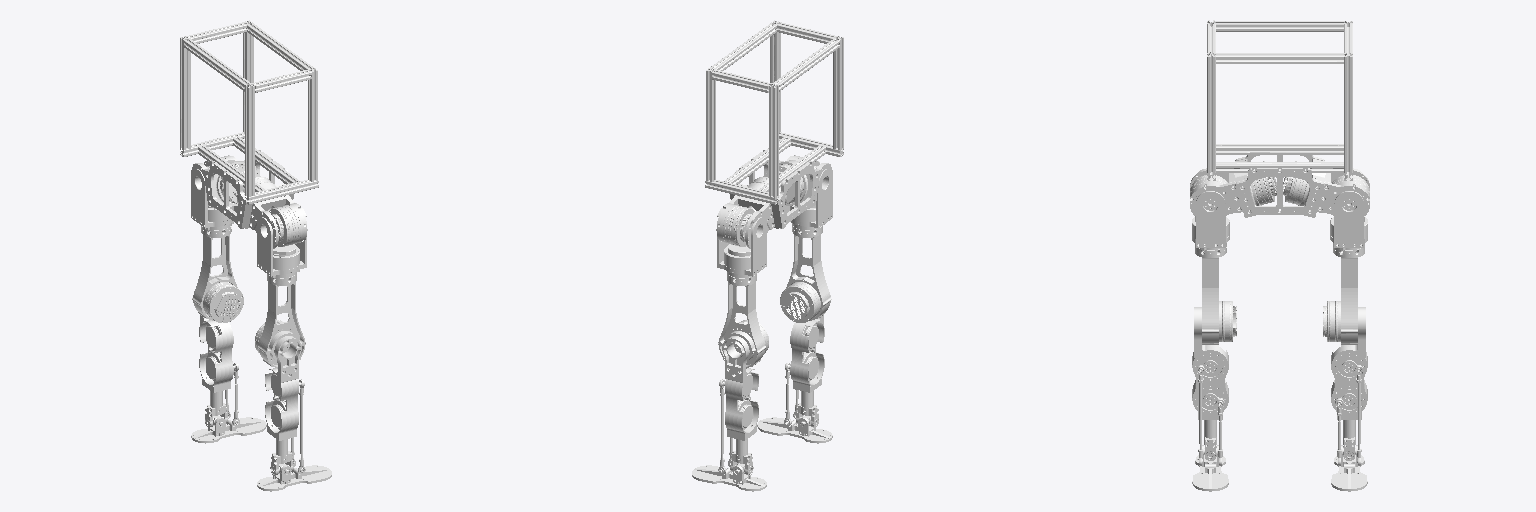
The robot description file, URDF, robot "converted_robot":
<?xml version="1.0" ?>
<robot name="converted_robot">
   <!--generated with mjcf_urdf_simple_converter (https://github.com/Yasu31/mjcf_urdf_simple_converter)-->
   <link name="world">
      <inertial>
         <origin xyz="0.0 0.0 0.0" rpy="0.0 0.0 0.0"/>
         <mass value="0.0"/>
         <inertia ixx="0.0" iyy="0.0" izz="0.0" ixy="0" ixz="0" iyz="0"/>
      </inertial>
   </link>
   <link name="Link0_Torso">
      <inertial>
         <origin xyz="2.2e-05 1.1e-05 -0.009359" rpy="0.00021902543341050415 -0.00012103084724457425 -0.0002364018197239283"/>
         <mass value="5.721"/>
         <inertia ixx="0.1338000028239822" iyy="0.10190000009342207" izz="0.0627799970825957" ixy="0" ixz="0" iyz="0"/>
      </inertial>
      <visual name="Link0_Torso">
         <origin xyz="7.796033047809406e-05 0.00031803690230297664 0.09691701717154415" rpy="-0.0006628095944997284 -0.0008575215963730898 0.0019874856713600632"/>
         <geometry>
            <mesh filename="converted_Link0_Torso.stl"/>
         </geometry>
         <material name="white"/>
      </visual>
   </link>
   <link name="root_jointbody">
      <inertial>
         <origin xyz="0.0 0.0 0.0" rpy="0.0 0.0 0.0"/>
         <mass value="0.001"/>
         <inertia ixx="1e-09" iyy="1e-09" izz="1e-09" ixy="0" ixz="0" iyz="0"/>
      </inertial>
   </link>
   <joint type="fixed" name="root">
      <parent link="world"/>
      <child link="root_jointbody"/>
      <origin xyz="0.0 0.0 0.81" rpy="0.0 0.0 0.0"/>
   </joint>
   <joint type="fixed" name="root_offset">
      <parent link="root_jointbody"/>
      <child link="Link0_Torso"/>
      <origin xyz="-0.0 -0.0 -0.0" rpy="0.0 0.0 0.0"/>
   </joint>
   <link name="Left_Link1_Hip">
      <inertial>
         <origin xyz="0.000579 0.015782 0.005535" rpy="1.4261314647441212 -0.03472477046694178 0.0034909887255693455"/>
         <mass value="1.764"/>
         <inertia ixx="0.003489185277947034" iyy="0.003339121340681708" izz="0.0022646933813712596" ixy="0" ixz="0" iyz="0"/>
      </inertial>
      <visual name="Left_Link1_Hip">
         <origin xyz="0.0006133032551700439 0.018110730934030116 0.0015904874731264653" rpy="1.4938769065050608 -0.0060949738828459665 0.008508879105160386"/>
         <geometry>
            <mesh filename="converted_Left_Link1_Hip.stl"/>
         </geometry>
         <material name="white"/>
      </visual>
   </link>
   <link name="Left_Hip_Pitch_jointbody">
      <inertial>
         <origin xyz="0.0 0.0 0.0" rpy="0.0 0.0 0.0"/>
         <mass value="0.001"/>
         <inertia ixx="1e-09" iyy="1e-09" izz="1e-09" ixy="0" ixz="0" iyz="0"/>
      </inertial>
   </link>
   <joint type="revolute" name="Left_Hip_Pitch">
      <parent link="Link0_Torso"/>
      <child link="Left_Hip_Pitch_jointbody"/>
      <origin xyz="0.0 0.162205 -0.100849" rpy="1.5707963267948963 -1.3089969389957472 1.5707963267948966"/>
      <axis xyz="0.0 -1.0 0.0"/>
      <limit lower="-1.5707963267948966" upper="1.5707963267948966" effort="100" velocity="100"/>
   </joint>
   <joint type="fixed" name="Left_Hip_Pitch_offset">
      <parent link="Left_Hip_Pitch_jointbody"/>
      <child link="Left_Link1_Hip"/>
      <origin xyz="-0.0 -0.0 -0.0" rpy="0.0 0.0 0.0"/>
   </joint>
   <link name="Left_Link2_Hip">
      <inertial>
         <origin xyz="1.6e-05 -0.000136 -0.073241" rpy="-0.002403493327179355 -0.0029137032599200197 -0.00119358948607688"/>
         <mass value="1.2918"/>
         <inertia ixx="0.003152011122252739" iyy="0.0023590010950211766" izz="0.0019749877827260846" ixy="0" ixz="0" iyz="0"/>
      </inertial>
      <visual name="Left_Link2_Hip">
         <origin xyz="5.955319185972279e-06 0.0001264025748451421 -0.06880982279097933" rpy="-0.014720816150545199 -0.0008544309075260159 -0.00047388657787451085"/>
         <geometry>
            <mesh filename="converted_Left_Link2_Hip.stl"/>
         </geometry>
         <material name="white"/>
      </visual>
   </link>
   <link name="Left_Hip_Roll_jointbody">
      <inertial>
         <origin xyz="0.0 0.0 0.0" rpy="0.0 0.0 0.0"/>
         <mass value="0.001"/>
         <inertia ixx="1e-09" iyy="1e-09" izz="1e-09" ixy="0" ixz="0" iyz="0"/>
      </inertial>
   </link>
   <joint type="revolute" name="Left_Hip_Roll">
      <parent link="Left_Link1_Hip"/>
      <child link="Left_Hip_Roll_jointbody"/>
      <origin xyz="0.0 0.0 0.0" rpy="1.5707963267948966 2.220446049250313e-16 1.8325957145940461"/>
      <axis xyz="0.0 1.0 0.0"/>
      <limit lower="-0.7853981633974483" upper="1.0471975511965976" effort="100" velocity="100"/>
   </joint>
   <joint type="fixed" name="Left_Hip_Roll_offset">
      <parent link="Left_Hip_Roll_jointbody"/>
      <child link="Left_Link2_Hip"/>
      <origin xyz="-0.0 -0.0 -0.0" rpy="0.0 0.0 0.0"/>
   </joint>
   <link name="Left_Link3_Thigh">
      <inertial>
         <origin xyz="2.8e-05 -0.032607 -0.012468" rpy="0.057429536107923104 -1.4875579325523163 1.5130622651719077"/>
         <mass value="1.983"/>
         <inertia ixx="0.01165590384365968" iyy="0.011159988686235205" izz="0.002092107470105102" ixy="0" ixz="0" iyz="0"/>
      </inertial>
      <visual name="Left_Link3_Thigh">
         <origin xyz="0.00011504139449444193 -0.06256706953434127 -0.008451097351318748" rpy="0.8405142510473955 -1.4642809869910671 0.7266355600804123"/>
         <geometry>
            <mesh filename="converted_Left_Link3_Thigh.stl"/>
         </geometry>
         <material name="white"/>
      </visual>
   </link>
   <link name="Left_Hip_Yaw_jointbody">
      <inertial>
         <origin xyz="0.0 0.0 0.0" rpy="0.0 0.0 0.0"/>
         <mass value="0.001"/>
         <inertia ixx="1e-09" iyy="1e-09" izz="1e-09" ixy="0" ixz="0" iyz="0"/>
      </inertial>
   </link>
   <joint type="revolute" name="Left_Hip_Yaw">
      <parent link="Left_Link2_Hip"/>
      <child link="Left_Hip_Yaw_jointbody"/>
      <origin xyz="0.0 -4.884981308350689e-17 -0.10400000000000001" rpy="-1.5707963267948966 -2.220446049250313e-16 1.5707963267948963"/>
      <axis xyz="0.0 -1.0 0.0"/>
      <limit lower="-0.7853981633974483" upper="0.7853981633974483" effort="100" velocity="100"/>
   </joint>
   <joint type="fixed" name="Left_Hip_Yaw_offset">
      <parent link="Left_Hip_Yaw_jointbody"/>
      <child link="Left_Link3_Thigh"/>
      <origin xyz="-0.0 0.22 -0.0" rpy="0.0 0.0 0.0"/>
   </joint>
   <link name="Left_Link4_Shank">
      <inertial>
         <origin xyz="-0.171211 0.003585 0.0097" rpy="-1.0705570861481415 -1.4562930585628588 -2.1267846954801883"/>
         <mass value="1.894"/>
         <inertia ixx="0.01685817394008441" iyy="0.016680379818234354" izz="0.001411446241681241" ixy="0" ixz="0" iyz="0"/>
      </inertial>
      <visual name="Left_Link4_Shank">
         <origin xyz="-0.1785457898084454 0.005403067554264071 0.006027392480964117" rpy="1.1471767158393897 -1.5029891437086682 1.9251359660266654"/>
         <geometry>
            <mesh filename="converted_Left_Link4_Shank.stl"/>
         </geometry>
         <material name="white"/>
      </visual>
   </link>
   <link name="Left_Knee_jointbody">
      <inertial>
         <origin xyz="0.0 0.0 0.0" rpy="0.0 0.0 0.0"/>
         <mass value="0.001"/>
         <inertia ixx="1e-09" iyy="1e-09" izz="1e-09" ixy="0" ixz="0" iyz="0"/>
      </inertial>
   </link>
   <joint type="revolute" name="Left_Knee">
      <parent link="Left_Link3_Thigh"/>
      <child link="Left_Knee_jointbody"/>
      <origin xyz="-7.438494264988549e-17 0.0 7.438494264988549e-17" rpy="1.5707963267948966 2.220446049250313e-16 1.5707963267948963"/>
      <axis xyz="0.0 1.0 0.0"/>
      <limit lower="-0.17453292519943295" upper="2.0943951023931953" effort="100" velocity="100"/>
   </joint>
   <joint type="fixed" name="Left_Knee_offset">
      <parent link="Left_Knee_jointbody"/>
      <child link="Left_Link4_Shank"/>
      <origin xyz="0.335 -0.0 -0.0" rpy="0.0 0.0 0.0"/>
   </joint>
   <link name="Left_Link5_AnkleRoll">
      <inertial>
         <origin xyz="0.0 0.0 0.0" rpy="1.5707963267948963 0.0 0.0"/>
         <mass value="0.040313"/>
         <inertia ixx="7.009e-06" iyy="5.125014e-06" izz="3.498104e-06" ixy="0" ixz="0" iyz="0"/>
      </inertial>
      <visual name="Left_Link5_AnkleRoll">
         <origin xyz="4.388303111581008e-08 -1.6757276121718816e-07 3.831685435758278e-08" rpy="1.5707963267948966 0.0 0.0"/>
         <geometry>
            <mesh filename="converted_Left_Link5_AnkleRoll.stl"/>
         </geometry>
         <material name="white"/>
      </visual>
   </link>
   <link name="Left_Ankle_Roll_jointbody">
      <inertial>
         <origin xyz="0.0 0.0 0.0" rpy="0.0 0.0 0.0"/>
         <mass value="0.001"/>
         <inertia ixx="1e-09" iyy="1e-09" izz="1e-09" ixy="0" ixz="0" iyz="0"/>
      </inertial>
   </link>
   <joint type="revolute" name="Left_Ankle_Roll">
      <parent link="Left_Link4_Shank"/>
      <child link="Left_Ankle_Roll_jointbody"/>
      <origin xyz="0.0 0.0 0.0" rpy="0.0 0.0 0.0"/>
      <axis xyz="0.0 0.0 1.0"/>
      <limit lower="-1.3962634015954636" upper="1.3962634015954636" effort="100" velocity="100"/>
   </joint>
   <joint type="fixed" name="Left_Ankle_Roll_offset">
      <parent link="Left_Ankle_Roll_jointbody"/>
      <child link="Left_Link5_AnkleRoll"/>
      <origin xyz="-0.0 -0.0 -0.0" rpy="0.0 0.0 0.0"/>
   </joint>
   <link name="Left_Link6_Foot">
      <inertial>
         <origin xyz="0.030483 -0.029106 0.0" rpy="1.5707790929078265 0.0005697707854976919 0.06333915865589909"/>
         <mass value="0.343229"/>
         <inertia ixx="0.0009465858675577525" iyy="0.0008769999776252296" izz="0.00015141415481701663" ixy="0" ixz="0" iyz="0"/>
      </inertial>
      <visual name="Left_Link6_Foot">
         <origin xyz="0.025220337900278663 -0.025180112624593784 1.7833502007421168e-06" rpy="1.5709706228299076 0.0013580123031362579 0.10743048297184149"/>
         <geometry>
            <mesh filename="converted_Left_Link6_Foot.stl"/>
         </geometry>
         <material name="white"/>
      </visual>
   </link>
   <link name="Left_Ankle_Pitch_jointbody">
      <inertial>
         <origin xyz="0.0 0.0 0.0" rpy="0.0 0.0 0.0"/>
         <mass value="0.001"/>
         <inertia ixx="1e-09" iyy="1e-09" izz="1e-09" ixy="0" ixz="0" iyz="0"/>
      </inertial>
   </link>
   <joint type="revolute" name="Left_Ankle_Pitch">
      <parent link="Left_Link5_AnkleRoll"/>
      <child link="Left_Ankle_Pitch_jointbody"/>
      <origin xyz="0.0 0.0 0.0" rpy="-1.5707963267948963 0.0 0.0"/>
      <axis xyz="0.0 0.0 1.0"/>
      <limit lower="-1.3962634015954636" upper="1.3962634015954636" effort="100" velocity="100"/>
   </joint>
   <joint type="fixed" name="Left_Ankle_Pitch_offset">
      <parent link="Left_Ankle_Pitch_jointbody"/>
      <child link="Left_Link6_Foot"/>
      <origin xyz="-0.0 -0.0 -0.0" rpy="0.0 0.0 0.0"/>
   </joint>
   <link name="Right_Link1_Hip">
      <inertial>
         <origin xyz="0.000581 -0.01523 0.005579" rpy="1.6912018152383221 -0.032719458877448204 -0.0018698688662284301"/>
         <mass value="1.751"/>
         <inertia ixx="0.003417173983937582" iyy="0.0032590746470919146" izz="0.0022707513689705023" ixy="0" ixz="0" iyz="0"/>
      </inertial>
      <visual name="Right_Link1_Hip">
         <origin xyz="0.0006045523947415651 -0.01809802445458151 0.0015840012384803555" rpy="1.6473859487105154 -0.005763749157890796 -0.008205143960260744"/>
         <geometry>
            <mesh filename="converted_Right_Link1_Hip.stl"/>
         </geometry>
         <material name="white"/>
      </visual>
   </link>
   <link name="Right_Hip_Pitch_jointbody">
      <inertial>
         <origin xyz="0.0 0.0 0.0" rpy="0.0 0.0 0.0"/>
         <mass value="0.001"/>
         <inertia ixx="1e-09" iyy="1e-09" izz="1e-09" ixy="0" ixz="0" iyz="0"/>
      </inertial>
   </link>
   <joint type="revolute" name="Right_Hip_Pitch">
      <parent link="Link0_Torso"/>
      <child link="Right_Hip_Pitch_jointbody"/>
      <origin xyz="0.0 -0.162205 -0.100849" rpy="-1.5707963267948966 -1.3089969389957476 -1.5707963267948968"/>
      <axis xyz="0.0 -1.0 0.0"/>
      <limit lower="-1.5707963267948966" upper="1.5707963267948966" effort="100" velocity="100"/>
   </joint>
   <joint type="fixed" name="Right_Hip_Pitch_offset">
      <parent link="Right_Hip_Pitch_jointbody"/>
      <child link="Right_Link1_Hip"/>
      <origin xyz="-0.0 -0.0 -0.0" rpy="0.0 0.0 0.0"/>
   </joint>
   <link name="Right_Link2_Hip">
      <inertial>
         <origin xyz="8e-06 6.4e-05 -0.073742" rpy="-0.01036668922654528 -0.0036383406619409087 -0.0017473387874785626"/>
         <mass value="1.332"/>
         <inertia ixx="0.002866015020734419" iyy="0.0021990320804623864" izz="0.0018819528988032004" ixy="0" ixz="0" iyz="0"/>
      </inertial>
      <visual name="Left_Link2_Hip">
         <origin xyz="5.955319185972279e-06 0.0001264025748451421 -0.06880982279097933" rpy="-0.014720816150545199 -0.0008544309075260159 -0.00047388657787451085"/>
         <geometry>
            <mesh filename="converted_Left_Link2_Hip.stl"/>
         </geometry>
         <material name="white"/>
      </visual>
   </link>
   <link name="Right_Hip_Roll_jointbody">
      <inertial>
         <origin xyz="0.0 0.0 0.0" rpy="0.0 0.0 0.0"/>
         <mass value="0.001"/>
         <inertia ixx="1e-09" iyy="1e-09" izz="1e-09" ixy="0" ixz="0" iyz="0"/>
      </inertial>
   </link>
   <joint type="revolute" name="Right_Hip_Roll">
      <parent link="Right_Link1_Hip"/>
      <child link="Right_Hip_Roll_jointbody"/>
      <origin xyz="0.0 0.0 0.0" rpy="1.5707963267948966 2.220446049250313e-16 1.3089969389957472"/>
      <axis xyz="0.0 1.0 0.0"/>
      <limit lower="-0.7853981633974483" upper="1.0471975511965976" effort="100" velocity="100"/>
   </joint>
   <joint type="fixed" name="Right_Hip_Roll_offset">
      <parent link="Right_Hip_Roll_jointbody"/>
      <child link="Right_Link2_Hip"/>
      <origin xyz="-0.0 -0.0 -0.0" rpy="0.0 0.0 0.0"/>
   </joint>
   <link name="Right_Link3_Thigh">
      <inertial>
         <origin xyz="-2.8e-05 -0.032607 0.012468" rpy="3.08416311748187 -1.4875579325523163 -1.5130622651719081"/>
         <mass value="1.983"/>
         <inertia ixx="0.01165590384365968" iyy="0.011159988686235205" izz="0.002092107470105102" ixy="0" ixz="0" iyz="0"/>
      </inertial>
      <visual name="Right_Link3_Thigh">
         <origin xyz="-0.00012058468867559443 -0.06248842140143404 0.008492096775096727" rpy="2.28388426363872 -1.4615875645296927 -0.7092936099200504"/>
         <geometry>
            <mesh filename="converted_Right_Link3_Thigh.stl"/>
         </geometry>
         <material name="white"/>
      </visual>
   </link>
   <link name="Right_Hip_Yaw_jointbody">
      <inertial>
         <origin xyz="0.0 0.0 0.0" rpy="0.0 0.0 0.0"/>
         <mass value="0.001"/>
         <inertia ixx="1e-09" iyy="1e-09" izz="1e-09" ixy="0" ixz="0" iyz="0"/>
      </inertial>
   </link>
   <joint type="revolute" name="Right_Hip_Yaw">
      <parent link="Right_Link2_Hip"/>
      <child link="Right_Hip_Yaw_jointbody"/>
      <origin xyz="0.0 -4.884981308350689e-17 -0.10400000000000001" rpy="-1.5707963267948966 -2.220446049250313e-16 1.5707963267948963"/>
      <axis xyz="0.0 -1.0 0.0"/>
      <limit lower="-0.7853981633974483" upper="0.7853981633974483" effort="100" velocity="100"/>
   </joint>
   <joint type="fixed" name="Right_Hip_Yaw_offset">
      <parent link="Right_Hip_Yaw_jointbody"/>
      <child link="Right_Link3_Thigh"/>
      <origin xyz="-0.0 0.22 -0.0" rpy="0.0 0.0 0.0"/>
   </joint>
   <link name="Right_Link4_Shank">
      <inertial>
         <origin xyz="-0.171962 -0.003761 0.009336" rpy="0.8176758031267004 -1.4960299638179935 2.381436841999976"/>
         <mass value="1.879"/>
         <inertia ixx="0.01657018247234128" iyy="0.016381345175992643" izz="0.0013884723516660372" ixy="0" ixz="0" iyz="0"/>
      </inertial>
      <visual name="Right_Link4_Shank">
         <origin xyz="-0.1785435453346456 -0.005454318243330871 0.006026517231937459" rpy="-1.217321100955949 -1.490206714970793 -1.8547386791912723"/>
         <geometry>
            <mesh filename="converted_Right_Link4_Shank.stl"/>
         </geometry>
         <material name="white"/>
      </visual>
   </link>
   <link name="Right_Knee_jointbody">
      <inertial>
         <origin xyz="0.0 0.0 0.0" rpy="0.0 0.0 0.0"/>
         <mass value="0.001"/>
         <inertia ixx="1e-09" iyy="1e-09" izz="1e-09" ixy="0" ixz="0" iyz="0"/>
      </inertial>
   </link>
   <joint type="revolute" name="Right_Knee">
      <parent link="Right_Link3_Thigh"/>
      <child link="Right_Knee_jointbody"/>
      <origin xyz="-7.438494264988549e-17 0.0 7.438494264988549e-17" rpy="1.5707963267948966 2.220446049250313e-16 1.5707963267948963"/>
      <axis xyz="0.0 1.0 0.0"/>
      <limit lower="-0.17453292519943295" upper="2.0943951023931953" effort="100" velocity="100"/>
   </joint>
   <joint type="fixed" name="Right_Knee_offset">
      <parent link="Right_Knee_jointbody"/>
      <child link="Right_Link4_Shank"/>
      <origin xyz="0.335 -0.0 -0.0" rpy="0.0 0.0 0.0"/>
   </joint>
   <link name="Right_Link5_AnkleRoll">
      <inertial>
         <origin xyz="0.0 0.0 0.0" rpy="1.5707963267948963 0.0 0.0"/>
         <mass value="0.040313"/>
         <inertia ixx="7.009e-06" iyy="5.125014e-06" izz="3.498104e-06" ixy="0" ixz="0" iyz="0"/>
      </inertial>
      <visual name="Right_Link5_AnkleRoll">
         <origin xyz="4.388303111581008e-08 -1.6757276121718816e-07 3.831685435758278e-08" rpy="1.5707963267948966 0.0 0.0"/>
         <geometry>
            <mesh filename="converted_Right_Link5_AnkleRoll.stl"/>
         </geometry>
         <material name="white"/>
      </visual>
   </link>
   <link name="Right_Ankle_Roll_jointbody">
      <inertial>
         <origin xyz="0.0 0.0 0.0" rpy="0.0 0.0 0.0"/>
         <mass value="0.001"/>
         <inertia ixx="1e-09" iyy="1e-09" izz="1e-09" ixy="0" ixz="0" iyz="0"/>
      </inertial>
   </link>
   <joint type="revolute" name="Right_Ankle_Roll">
      <parent link="Right_Link4_Shank"/>
      <child link="Right_Ankle_Roll_jointbody"/>
      <origin xyz="0.0 0.0 0.0" rpy="0.0 0.0 0.0"/>
      <axis xyz="0.0 0.0 1.0"/>
      <limit lower="-1.3962634015954636" upper="1.3962634015954636" effort="100" velocity="100"/>
   </joint>
   <joint type="fixed" name="Right_Ankle_Roll_offset">
      <parent link="Right_Ankle_Roll_jointbody"/>
      <child link="Right_Link5_AnkleRoll"/>
      <origin xyz="-0.0 -0.0 -0.0" rpy="0.0 0.0 0.0"/>
   </joint>
   <link name="Right_Link6_Foot">
      <inertial>
         <origin xyz="0.030483 -0.029106 0.0" rpy="1.5707790929078265 0.0005697707854976919 0.06333915865589909"/>
         <mass value="0.343229"/>
         <inertia ixx="0.0009465858675577525" iyy="0.0008769999776252296" izz="0.00015141415481701663" ixy="0" ixz="0" iyz="0"/>
      </inertial>
      <visual name="Right_Link6_Foot">
         <origin xyz="0.025220337900278663 -0.025180112624593784 1.7833502007421168e-06" rpy="1.5709706228299076 0.0013580123031362579 0.10743048297184149"/>
         <geometry>
            <mesh filename="converted_Right_Link6_Foot.stl"/>
         </geometry>
         <material name="white"/>
      </visual>
   </link>
   <link name="Right_Ankle_Pitch_jointbody">
      <inertial>
         <origin xyz="0.0 0.0 0.0" rpy="0.0 0.0 0.0"/>
         <mass value="0.001"/>
         <inertia ixx="1e-09" iyy="1e-09" izz="1e-09" ixy="0" ixz="0" iyz="0"/>
      </inertial>
   </link>
   <joint type="revolute" name="Right_Ankle_Pitch">
      <parent link="Right_Link5_AnkleRoll"/>
      <child link="Right_Ankle_Pitch_jointbody"/>
      <origin xyz="0.0 0.0 0.0" rpy="-1.5707963267948963 0.0 0.0"/>
      <axis xyz="0.0 0.0 1.0"/>
      <limit lower="-1.3962634015954636" upper="1.3962634015954636" effort="100" velocity="100"/>
   </joint>
   <joint type="fixed" name="Right_Ankle_Pitch_offset">
      <parent link="Right_Ankle_Pitch_jointbody"/>
      <child link="Right_Link6_Foot"/>
      <origin xyz="-0.0 -0.0 -0.0" rpy="0.0 0.0 0.0"/>
   </joint>
   <material name="white">
      <color rgba="1 1 1 1"/>
   </material>
</robot>

--- Facts derived from the render (not from the file) ---
The picture shows the robot from 3 angles, left to right: view 1: azimuth 30°, elevation 25°; view 2: azimuth 150°, elevation 25°; view 3: azimuth 270°, elevation 25°; orthographic projection.
Robot: converted_robot — 27 links, 26 joints (12 revolute, 14 fixed); root link world; default pose: every joint at zero.
Links seen in each view (by area): view 1: Link0_Torso, Right_Link4_Shank, Left_Link3_Thigh, Left_Link4_Shank, Right_Link3_Thigh, Right_Link1_Hip, Right_Link2_Hip, Left_Link2_Hip, Left_Link6_Foot, Right_Link6_Foot; view 2: Link0_Torso, Left_Link4_Shank, Right_Link3_Thigh, Right_Link4_Shank, Left_Link3_Thigh, Left_Link1_Hip, Left_Link2_Hip, Right_Link2_Hip, Left_Link6_Foot, Right_Link6_Foot; view 3: Link0_Torso, Left_Link4_Shank, Right_Link4_Shank, Left_Link3_Thigh, Right_Link3_Thigh, Left_Link2_Hip, Right_Link2_Hip, Left_Link1_Hip, Right_Link1_Hip, Left_Link6_Foot, Right_Link6_Foot.
Link boxes in pixels (x1,y1,x2,y2): Link0_Torso: [180, 20, 318, 228]; Right_Link4_Shank: [265, 336, 305, 475]; Left_Link3_Thigh: [192, 225, 243, 322]; Left_Link4_Shank: [199, 315, 239, 427]; Right_Link3_Thigh: [255, 274, 305, 368]; Right_Link1_Hip: [249, 195, 307, 248]; Right_Link2_Hip: [257, 217, 306, 277]; Left_Link2_Hip: [191, 169, 237, 229]; Left_Link6_Foot: [191, 417, 266, 443]; Right_Link6_Foot: [257, 465, 331, 491]; Link0_Torso: [705, 20, 843, 228]; Left_Link4_Shank: [718, 336, 758, 475]; Right_Link3_Thigh: [780, 225, 831, 322]; Right_Link4_Shank: [784, 315, 824, 427]; Left_Link3_Thigh: [718, 274, 768, 368]; Left_Link1_Hip: [716, 195, 774, 248]; Left_Link2_Hip: [717, 217, 766, 277]; Right_Link2_Hip: [786, 169, 832, 229]; Left_Link6_Foot: [692, 465, 766, 491]; Right_Link6_Foot: [757, 417, 832, 443]; Link0_Torso: [1207, 20, 1352, 217]; Left_Link4_Shank: [1331, 307, 1367, 465]; Right_Link4_Shank: [1192, 307, 1228, 465]; Left_Link3_Thigh: [1323, 245, 1364, 344]; Right_Link3_Thigh: [1195, 245, 1236, 344]; Left_Link2_Hip: [1330, 191, 1367, 250]; Right_Link2_Hip: [1192, 191, 1229, 250]; Left_Link1_Hip: [1317, 168, 1369, 215]; Right_Link1_Hip: [1190, 168, 1242, 215]; Left_Link6_Foot: [1331, 445, 1367, 491]; Right_Link6_Foot: [1192, 445, 1228, 491].
Size in the robot's own frame: 0.2374 by 0.4224 by 1.11 metres.
13 mesh visuals loaded from 12 distinct referenced files (12 binary STL).